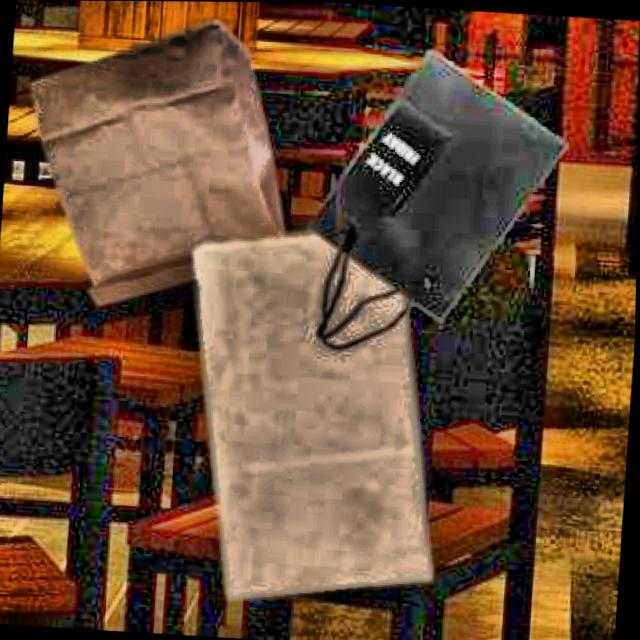Paper-bag: (157, 205, 467, 612), (14, 6, 329, 314), (304, 45, 555, 375)
